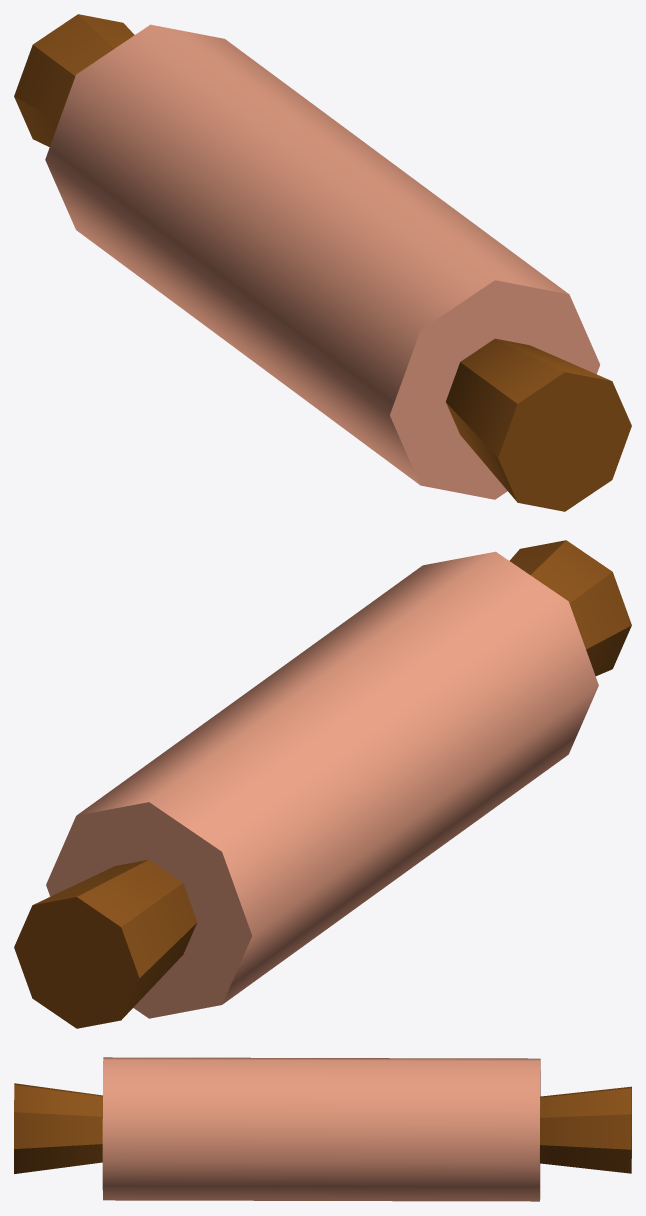
The model's file is Rolling pin.fbx.
3 renders of one model, top to bottom at view 1: azimuth 30°, elevation 25°; view 2: azimuth 150°, elevation 25°; view 3: azimuth 270°, elevation 25°, orthographic. The views are drawn at different scales.
Parts seen in each view (by area): view 1: Rolling pin; view 2: Rolling pin; view 3: Rolling pin.
Boxes of the visible parts, <box> form: Rolling pin: <box>14,14,631,511</box>; Rolling pin: <box>14,540,631,1028</box>; Rolling pin: <box>14,1057,631,1201</box>.
Size of the model in its own units: 7.41 by 7.29 by 29.6.
